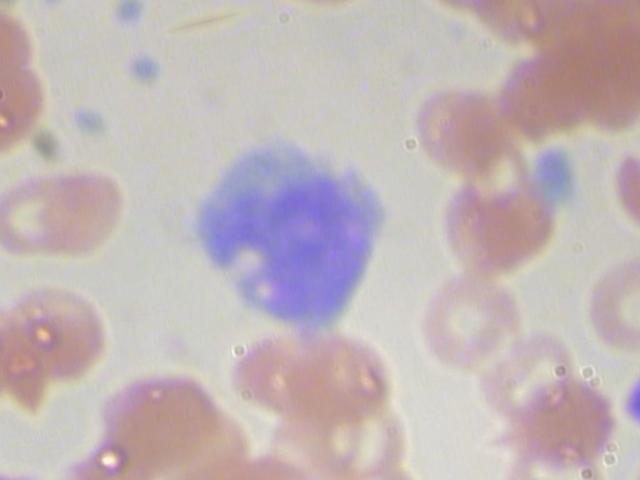Platelets: (282, 303, 431, 444), (477, 34, 610, 159), (292, 373, 433, 480)
RBC: (156, 101, 418, 362), (205, 314, 354, 456), (366, 58, 521, 193), (18, 143, 173, 278), (417, 153, 572, 287), (1, 256, 136, 394), (90, 345, 226, 480), (405, 261, 537, 392), (461, 302, 593, 433), (0, 150, 107, 269), (564, 241, 640, 367), (0, 284, 29, 422), (100, 0, 153, 34), (32, 0, 85, 15)
WBC: (0, 0, 49, 85)
